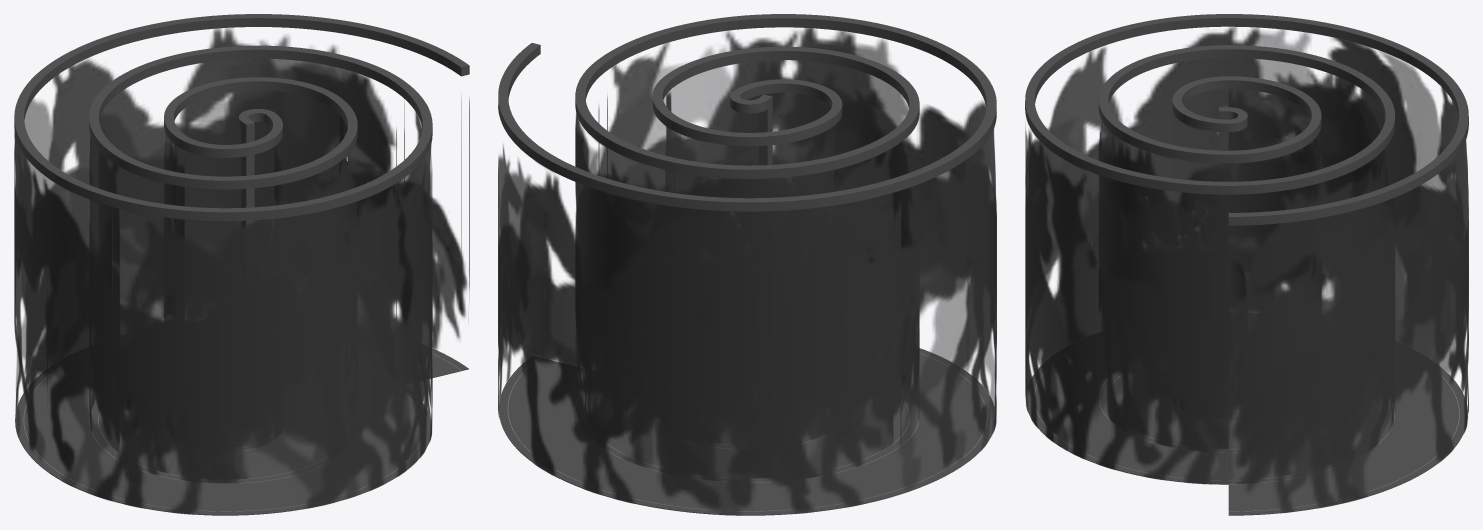
File: project1.glb
3 renders of one model, left to right at view 1: azimuth 30°, elevation 25°; view 2: azimuth 150°, elevation 25°; view 3: azimuth 270°, elevation 25°, orthographic. The views are drawn at different scales.
Visible parts, largest first — view 1: Fal - 222; view 2: Fal - 222; view 3: Fal - 222.
Part boxes in pixels (x1,y1,x2,y2): Fal - 222: [14, 14, 469, 515]; Fal - 222: [498, 14, 996, 515]; Fal - 222: [1025, 14, 1468, 515].
Size of the model in its own units: 7.5 by 5.15 by 6.93.
Materials: 3 (1 with a texture image).
